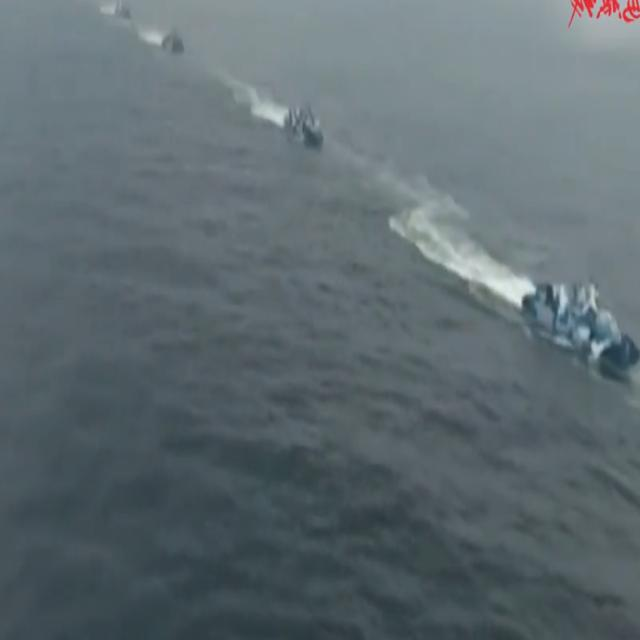navalvessels: (519, 271, 640, 374), (281, 97, 326, 147), (150, 28, 186, 61), (111, 0, 138, 23)
